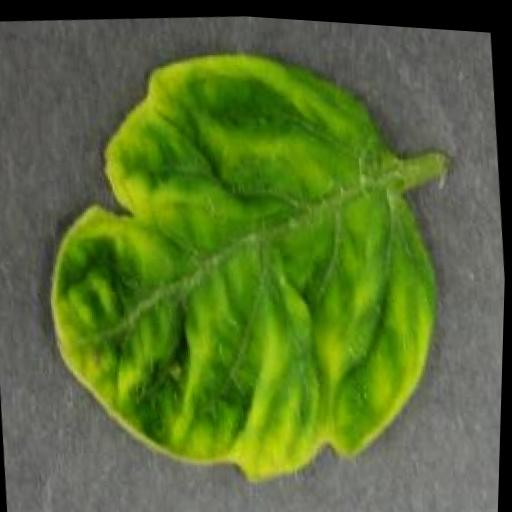Yellow Leaf Curl Virus: (23, 20, 464, 508)
